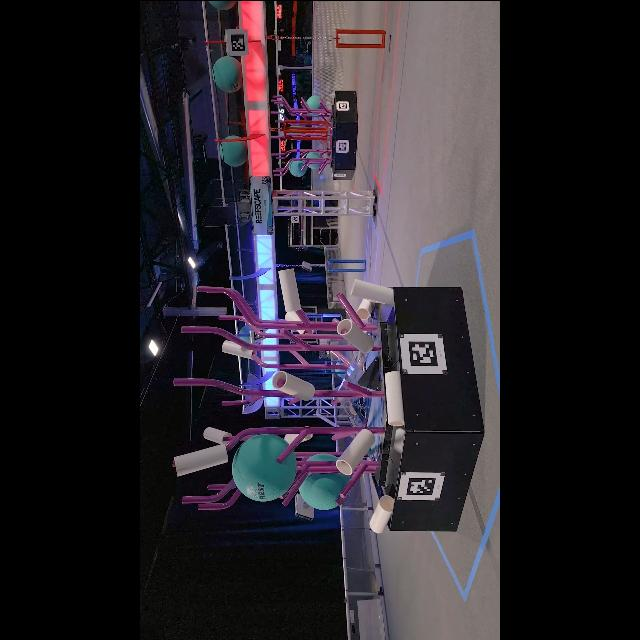ALGAE: (231, 433, 297, 501), (298, 452, 350, 510), (212, 56, 242, 92), (218, 134, 248, 166), (289, 160, 307, 177), (304, 151, 320, 169), (208, 0, 236, 10), (306, 94, 320, 110)
CORAL: (335, 428, 375, 476), (174, 443, 228, 475), (277, 268, 309, 310), (336, 319, 374, 353), (272, 370, 314, 400), (350, 278, 394, 306), (384, 370, 404, 426), (368, 494, 394, 534), (222, 340, 256, 358), (204, 426, 232, 444)
